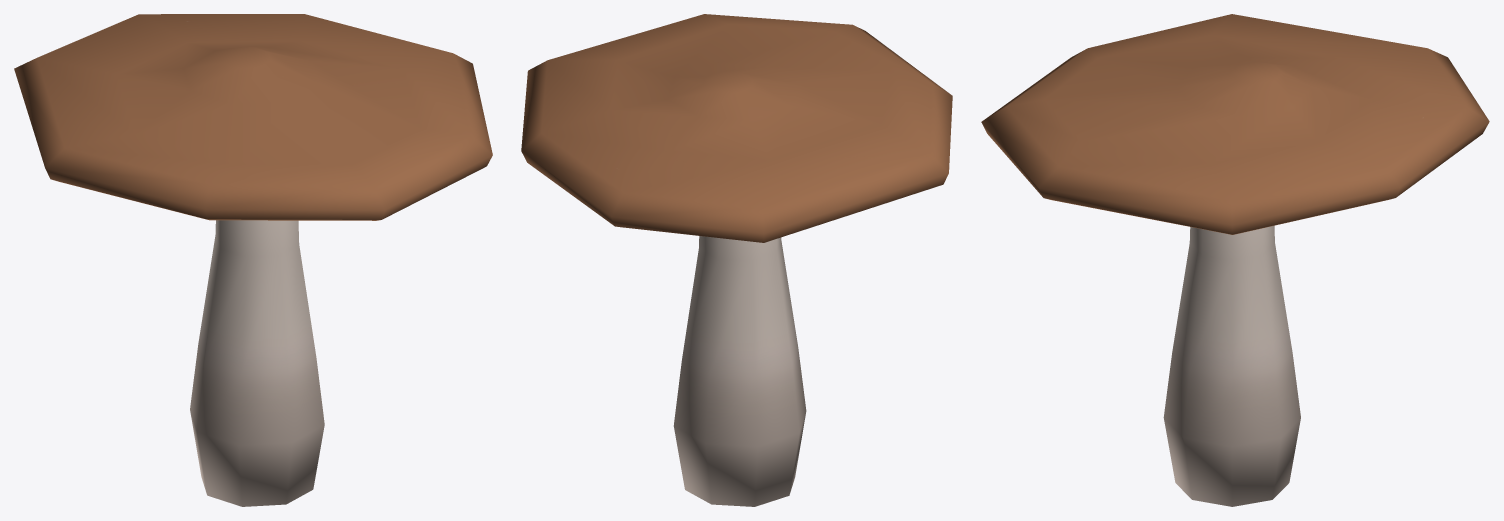
Rendered from Mushroom3.fbx.
The picture shows the model from 3 angles, left to right: view 1: azimuth 30°, elevation 25°; view 2: azimuth 150°, elevation 25°; view 3: azimuth 270°, elevation 25°; orthographic projection.
Visible parts, largest first — view 1: Cylinder.003; view 2: Cylinder.003; view 3: Cylinder.003.
Part boxes in pixels (<box>): Cylinder.003: <box>14,14,492,506</box>; Cylinder.003: <box>521,14,952,506</box>; Cylinder.003: <box>981,14,1489,506</box>.
Bounding box in the file's own units: 226 × 210 × 237.
1 material, 1 textured.
